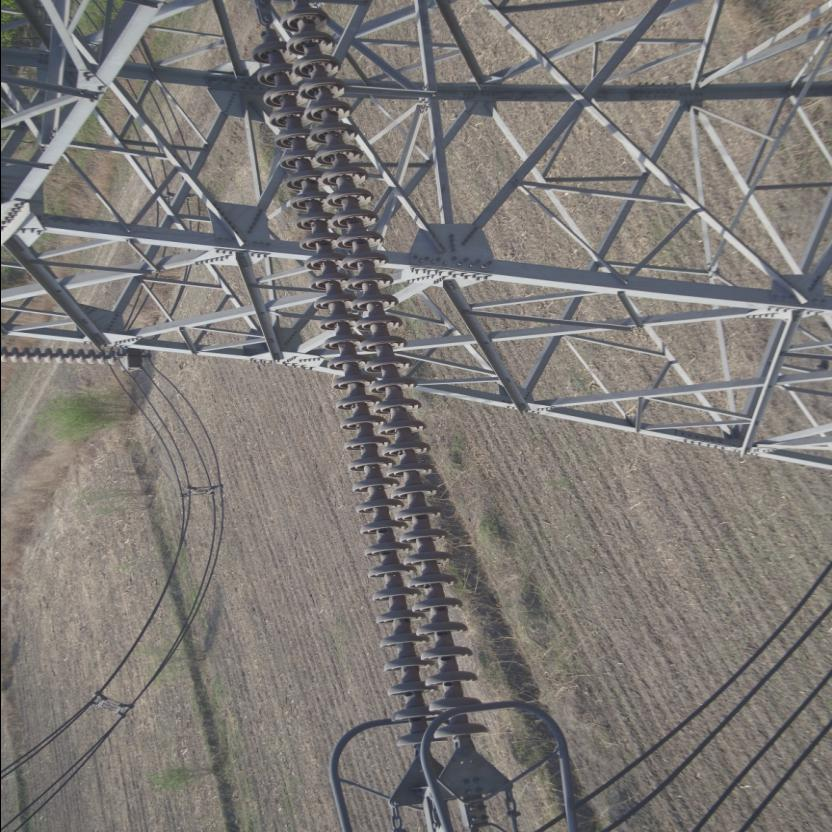insulator: (246, 1, 492, 769)
